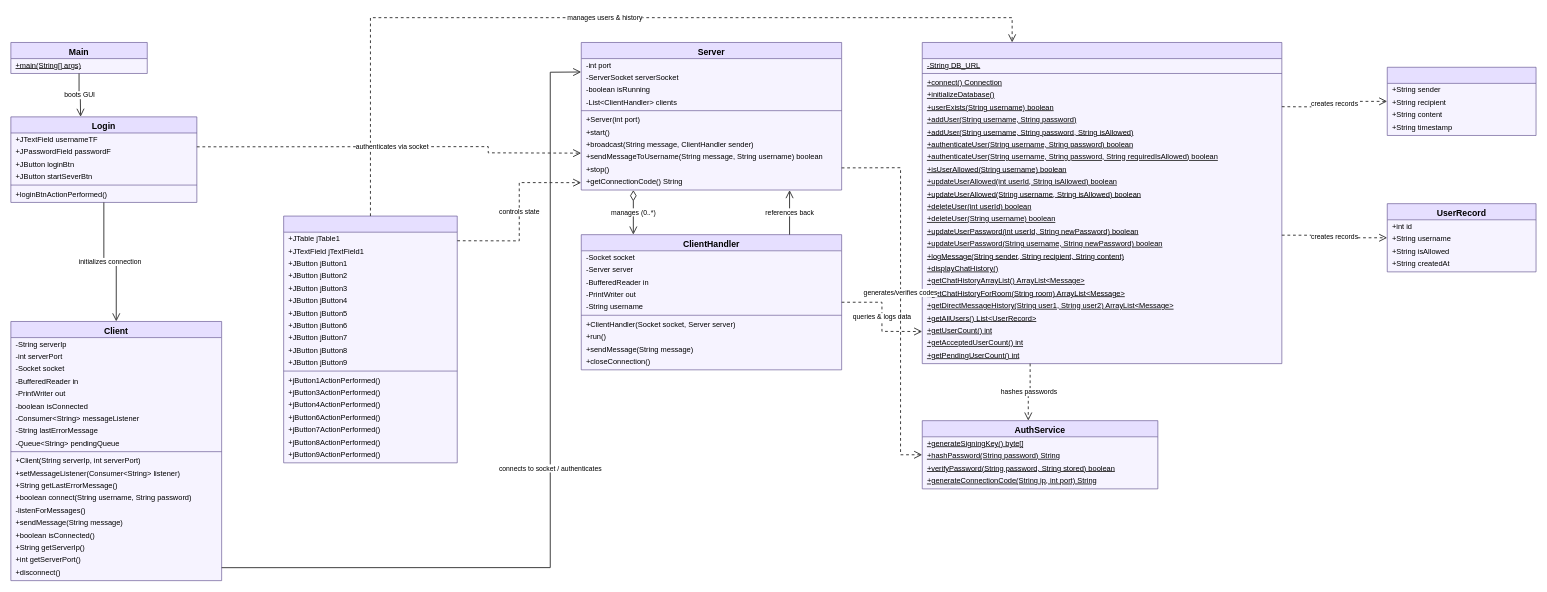
Image size: 1547x592. Some labels were removed from this diagram. The shapes that lost their labels are listed below. From the top down, each one's box as (x1, y1, x2, y2) in pixels, then its label:
(1387, 67, 1536, 135): Message
(922, 42, 1282, 364): DatabaseManager
(283, 215, 457, 463): AdminConsole
